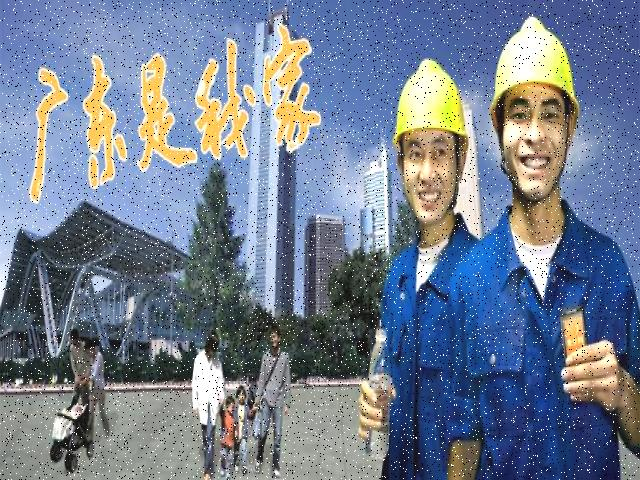Helmet: (486, 10, 580, 143), (388, 49, 472, 152)
